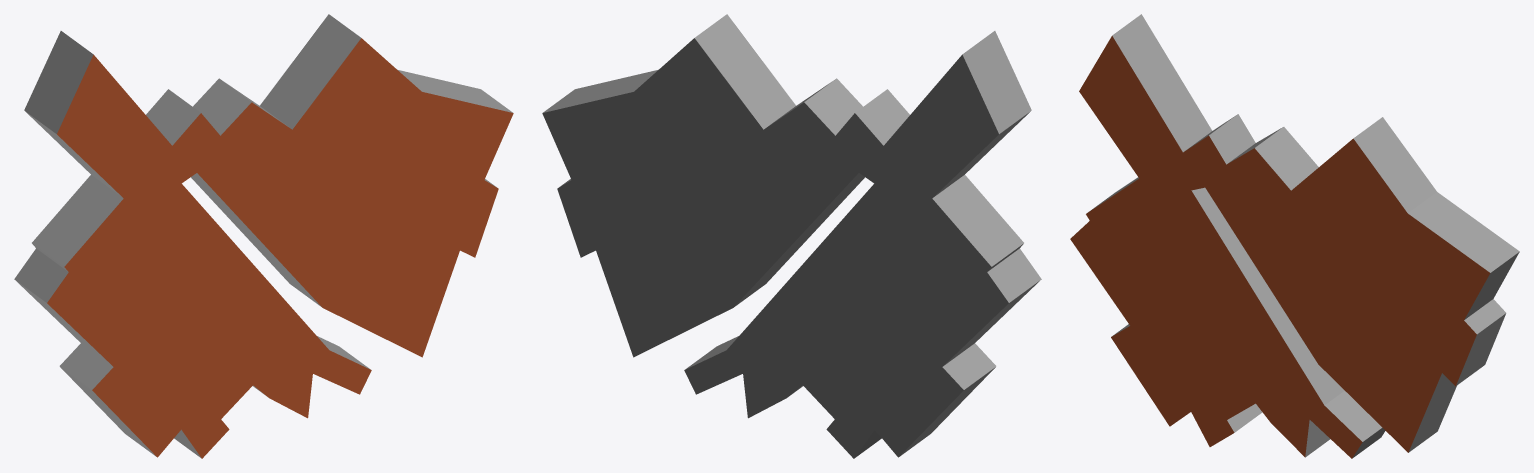
Rendered from construction_5987_assumed_A_Casa_h6m.obj.
The picture shows the model from 3 angles, left to right: view 1: azimuth 30°, elevation 25°; view 2: azimuth 150°, elevation 25°; view 3: azimuth 330°, elevation 25°; orthographic projection. The views are drawn at different scales.
Visible parts, largest first — view 1: construction_5987_assumed_A_Casa; view 2: construction_5987_assumed_A_Casa; view 3: construction_5987_assumed_A_Casa.
Boxes of the visible parts, box(x1,y1,x2,y2) form: construction_5987_assumed_A_Casa: box(14, 14, 513, 458); construction_5987_assumed_A_Casa: box(542, 14, 1041, 458); construction_5987_assumed_A_Casa: box(1070, 14, 1519, 458).
Size of the model in its own units: 49.46 by 43.64 by 6.
